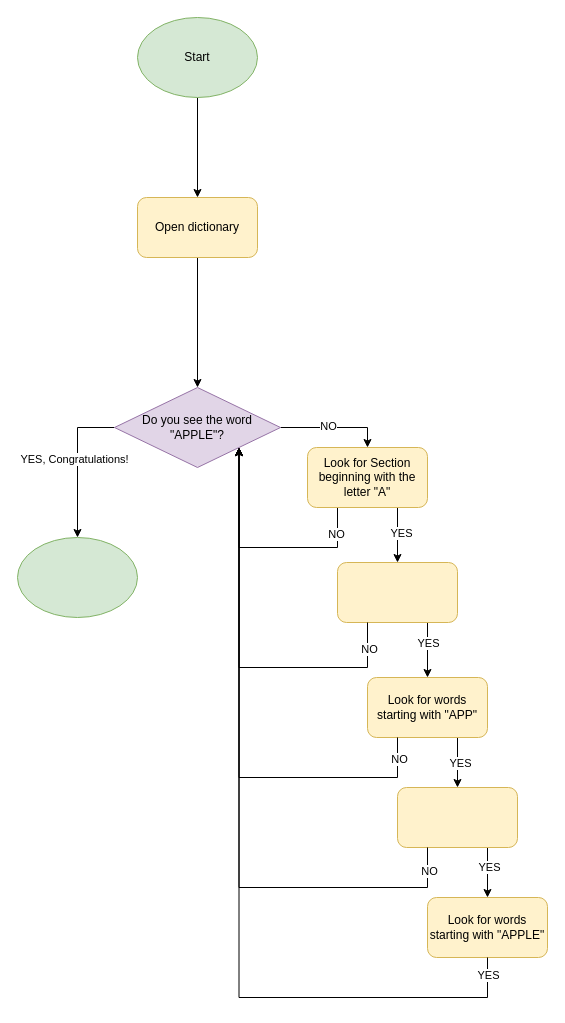
This 565x1023 diagram has some shape labels left out. The shapes that lost their labels are listed below. From the top down, each one's centre as x and y in pixels, then its label:
the point at 77,577: End
the point at 397,592: Look for words starting with "AP"
the point at 457,817: Look for words starting with "APPL"
